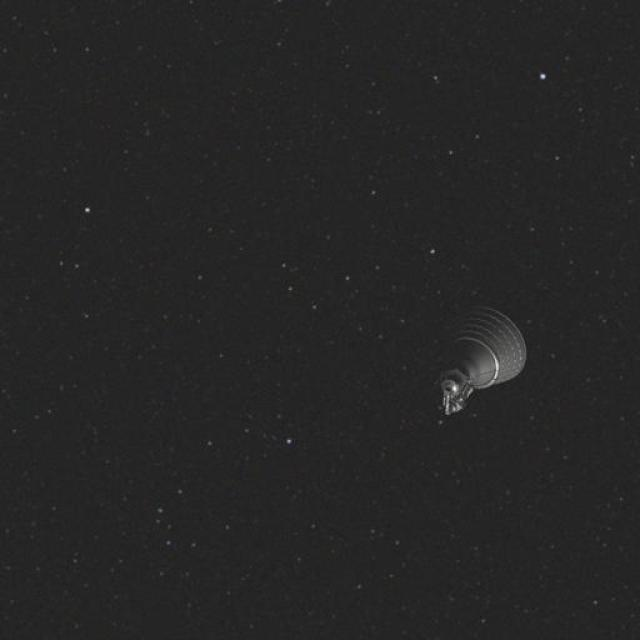debris: (386, 288, 554, 452)
